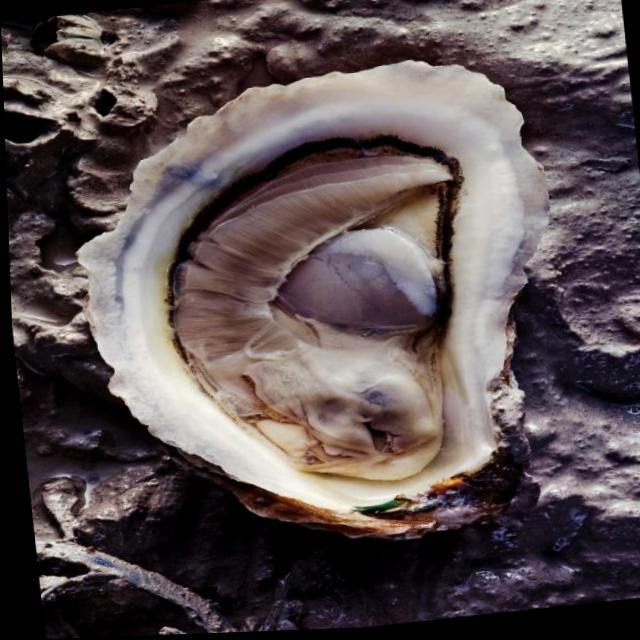Oyster-Open: (75, 61, 550, 542)
